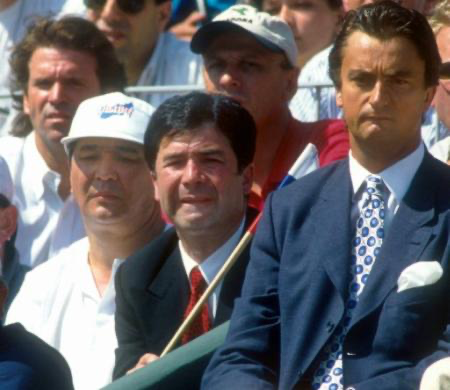Face: (147, 127, 250, 242), (339, 33, 426, 145), (65, 134, 158, 233), (201, 32, 291, 128), (27, 55, 112, 151), (78, 1, 166, 59), (256, 0, 334, 58)
